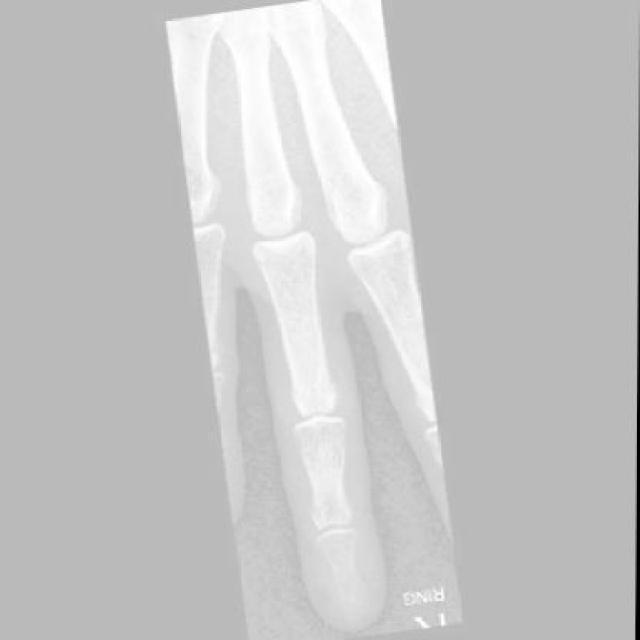Fracture: (334, 569, 372, 608)
